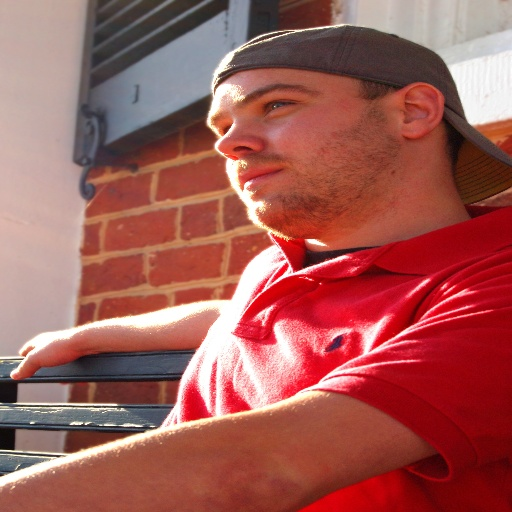hand: (6, 317, 163, 380)
